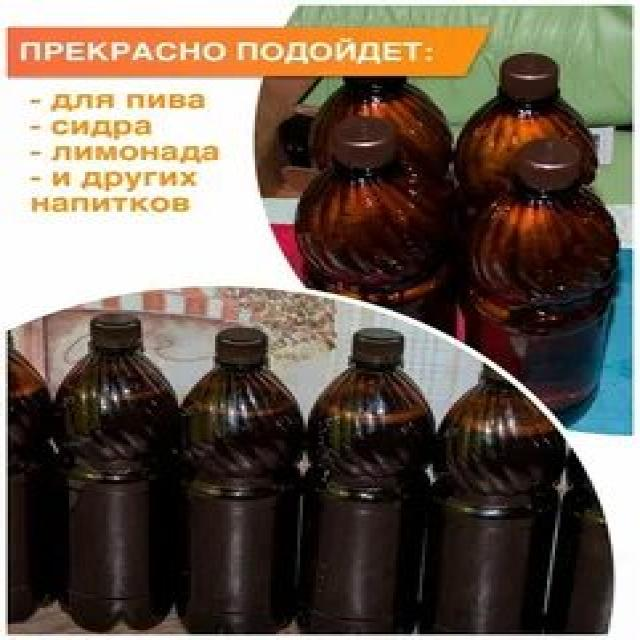brown: (464, 183, 620, 422), (175, 362, 303, 635), (55, 347, 177, 628), (303, 360, 425, 640), (305, 155, 456, 332)
